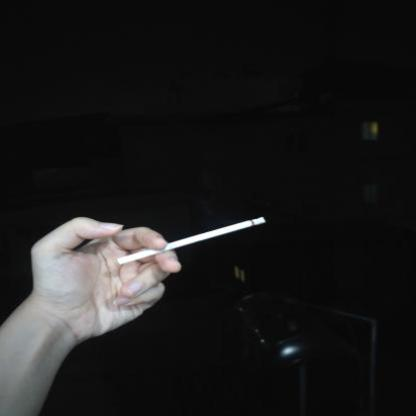cigarette: (115, 214, 272, 268)
